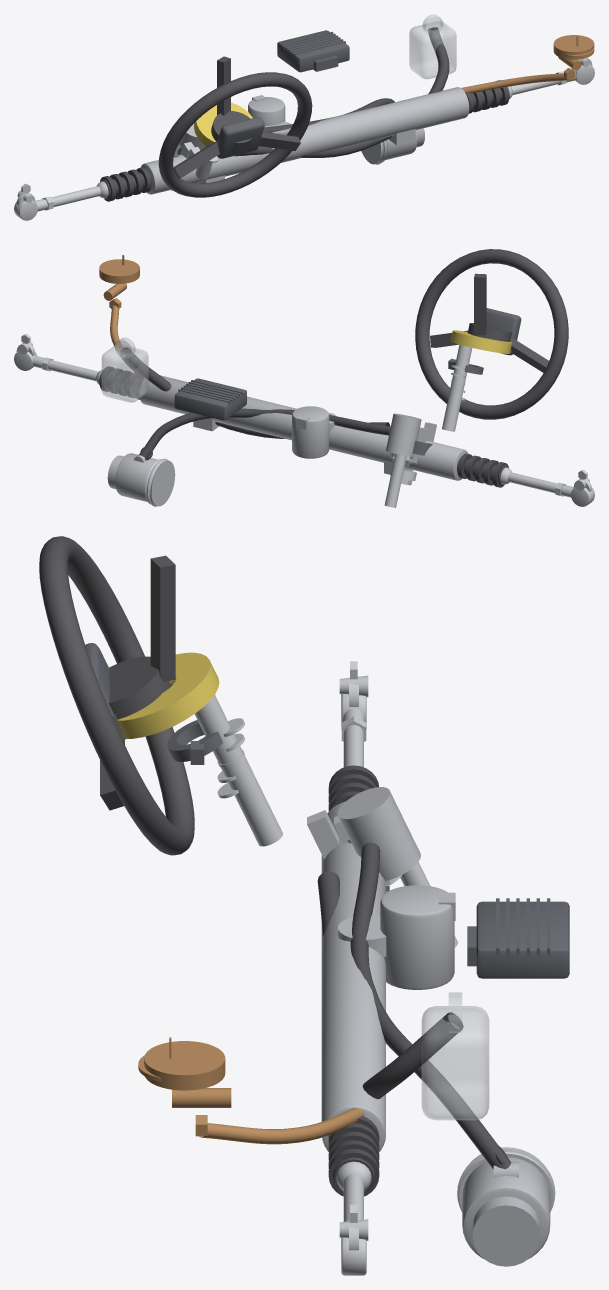
File: direksiyon.glb
The picture shows the model from 3 angles, top to bottom: view 1: azimuth 30°, elevation 25°; view 2: azimuth 150°, elevation 25°; view 3: azimuth 270°, elevation 25°; orthographic projection. The views are drawn at different scales.
Parts seen in each view (by area): view 1: direksiyon_simidi, kremayer_kutusu, eps_kontrol_unitesi, hidrolik_deposu, basinc_test_cihazi, donus_hortumu, airbag_modulu, koruk_sol, eps_motoru, koruk_sag, rot_cubugu_sol, rot_basi_sol (+6 smaller); view 2: direksiyon_simidi, kremayer_kutusu, hidrolik_deposu, eps_kontrol_unitesi, eps_motoru, direksiyon_mili, basinc_hortumu, basinc_test_cihazi, hidrolik_pompa, koruk_sol, pompa_kasnagi, donus_hortumu (+8 smaller); view 3: direksiyon_simidi, kremayer_kutusu, eps_motoru, hidrolik_pompa, hidrolik_deposu, eps_kontrol_unitesi, basinc_test_cihazi, basinc_hortumu, direksiyon_mili, spiral_kablo, donus_hortumu, koruk_sag (+8 smaller).
Boxes of the visible parts, bbox=[...] form: direksiyon_simidi: bbox=[158, 56, 312, 197]; kremayer_kutusu: bbox=[140, 87, 469, 194]; eps_kontrol_unitesi: bbox=[277, 30, 349, 72]; hidrolik_deposu: bbox=[409, 14, 456, 79]; basinc_test_cihazi: bbox=[461, 35, 594, 93]; donus_hortumu: bbox=[234, 27, 449, 157]; airbag_modulu: bbox=[217, 117, 264, 158]; koruk_sol: bbox=[100, 167, 151, 201]; eps_motoru: bbox=[248, 95, 290, 135]; koruk_sag: bbox=[465, 80, 509, 113]; rot_cubugu_sol: bbox=[42, 181, 108, 210]; rot_basi_sol: bbox=[14, 183, 46, 220]; direksiyon_simidi: bbox=[415, 249, 568, 419]; kremayer_kutusu: bbox=[140, 375, 468, 480]; hidrolik_deposu: bbox=[101, 337, 148, 402]; eps_kontrol_unitesi: bbox=[174, 378, 246, 420]; eps_motoru: bbox=[292, 406, 336, 458]; direksiyon_mili: bbox=[384, 344, 472, 507]; basinc_hortumu: bbox=[139, 408, 390, 460]; basinc_test_cihazi: bbox=[99, 255, 143, 379]; hidrolik_pompa: bbox=[107, 453, 157, 501]; koruk_sol: bbox=[457, 453, 508, 487]; pompa_kasnagi: bbox=[145, 458, 175, 506]; donus_hortumu: bbox=[121, 348, 389, 438]; direksiyon_simidi: bbox=[39, 536, 194, 855]; kremayer_kutusu: bbox=[321, 787, 420, 1151]; eps_motoru: bbox=[338, 885, 455, 989]; hidrolik_pompa: bbox=[462, 1157, 550, 1266]; hidrolik_deposu: bbox=[421, 992, 489, 1120]; eps_kontrol_unitesi: bbox=[467, 898, 569, 978]; basinc_test_cihazi: bbox=[138, 1037, 364, 1144]; basinc_hortumu: bbox=[350, 842, 511, 1169]; direksiyon_mili: bbox=[194, 695, 457, 947]; spiral_kablo: bbox=[117, 652, 219, 738]; donus_hortumu: bbox=[317, 871, 463, 1099]; koruk_sag: bbox=[328, 1116, 379, 1196].
Size of the model in its own units: 1.57 by 0.594 by 0.6269.
